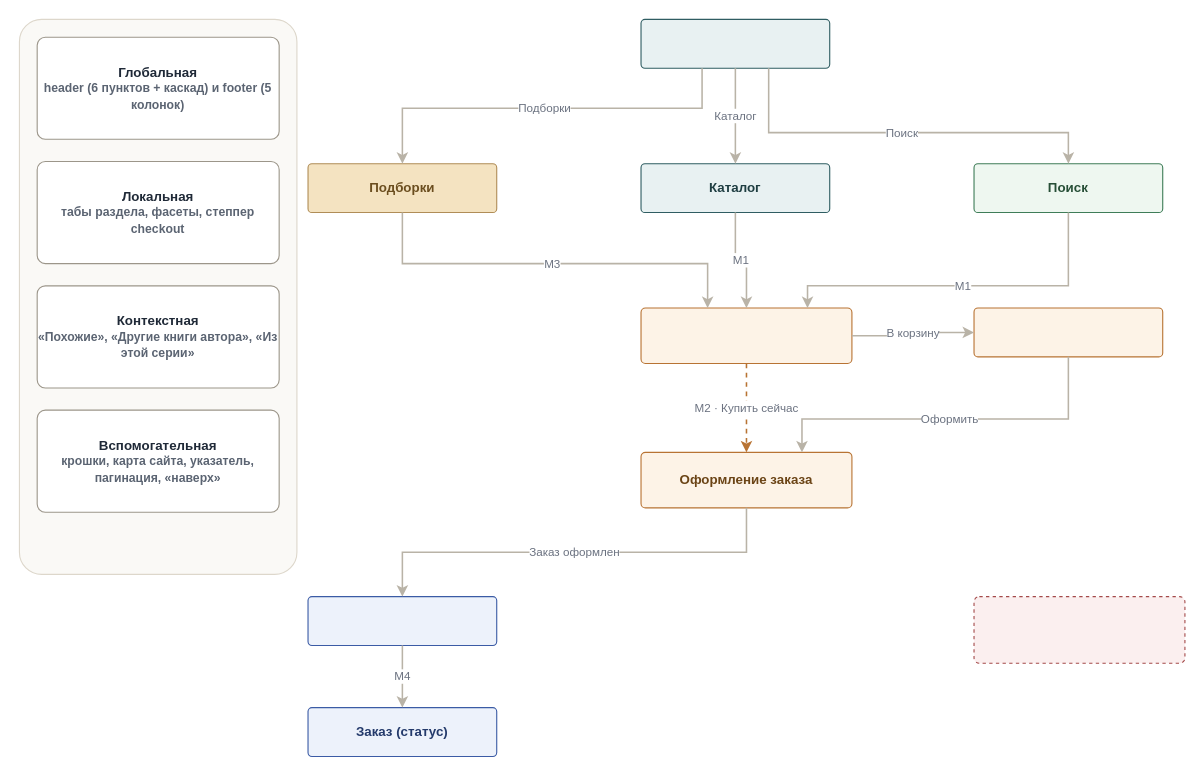
The diagram is 1204 pixels wide and 776 high, and some of its shapes have lost their labels. Each missing label, with the centre of its shape:
Админ-панель отдельный layout /admin: (x=1079, y=629)
Главная: (x=735, y=43)
Корзина: (x=1068, y=332)
Личный кабинет: (x=402, y=620)
Страница книги: (x=746, y=335)
